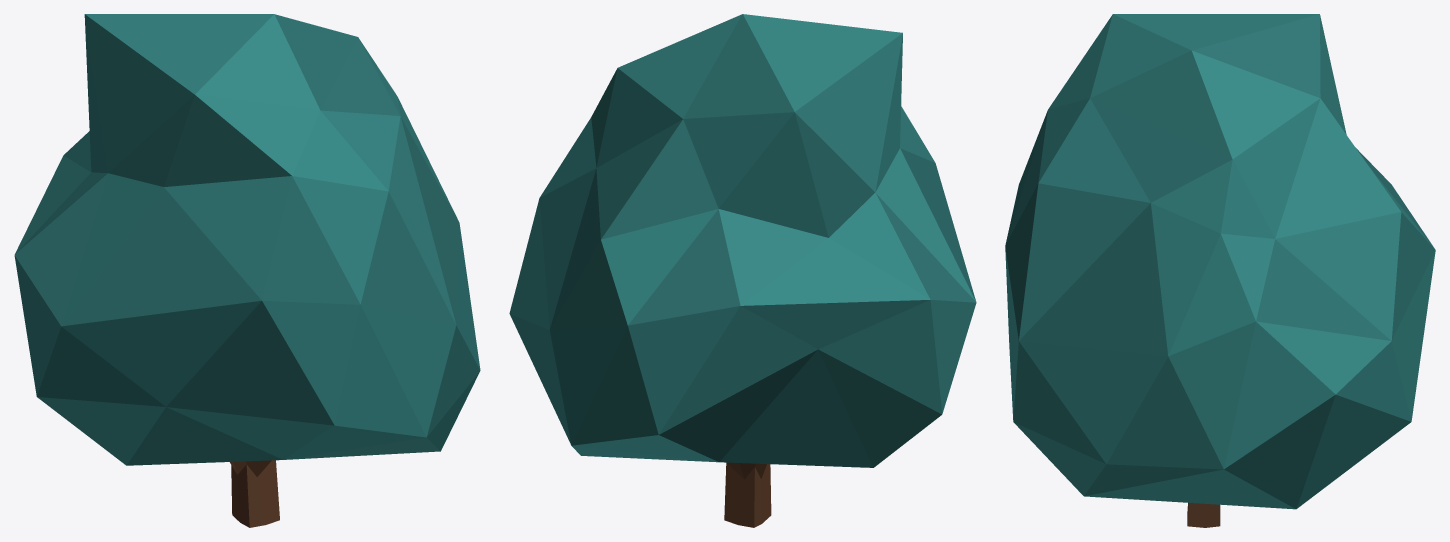
File: Tree_10_Blue.fbx
3 views of the same model, side by side, from view 1: azimuth 30°, elevation 25°; view 2: azimuth 150°, elevation 25°; view 3: azimuth 270°, elevation 25° (orthographic). The views are drawn at different scales.
Parts seen in each view (by area): view 1: Tree_10_Blue; view 2: Tree_10_Blue; view 3: Tree_10_Blue.
Boxes of the visible parts, x1,y1,x2,y2 form: Tree_10_Blue: [14, 14, 480, 527]; Tree_10_Blue: [509, 14, 976, 527]; Tree_10_Blue: [1005, 14, 1435, 527].
Size of the model in its own units: 682 by 802 by 656.
